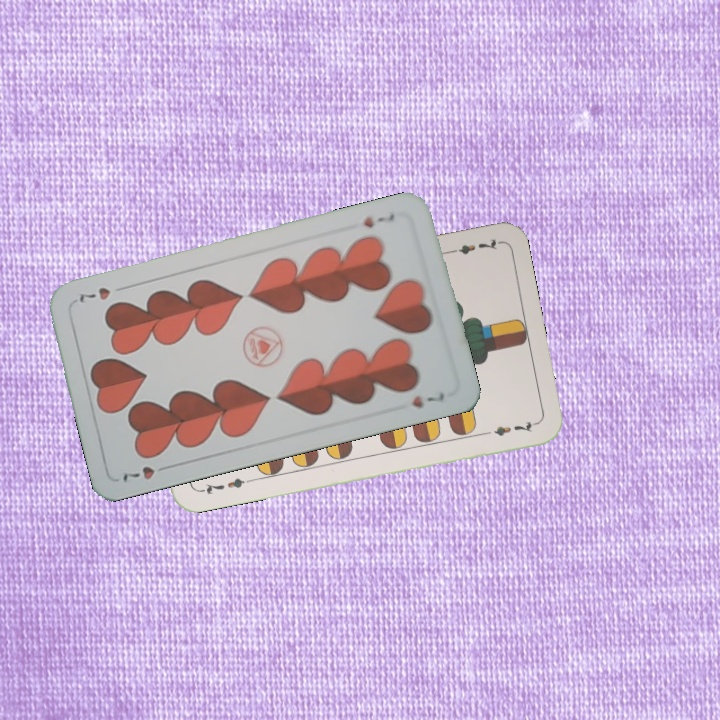E7: (194, 474, 253, 497), (443, 234, 502, 257)
H7: (118, 461, 174, 486), (360, 209, 397, 231)
